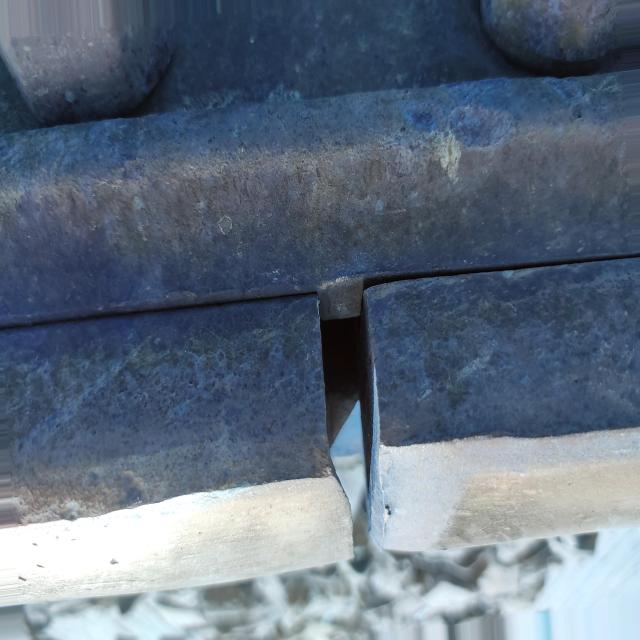crack: (294, 272, 400, 576)
